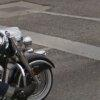Motorcycle: (2, 22, 61, 100)
